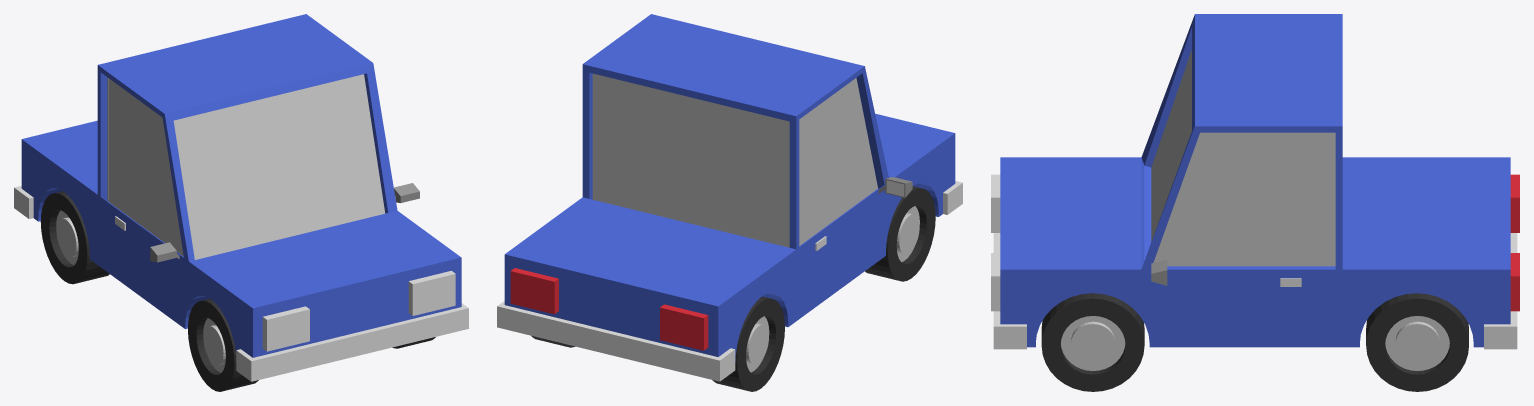
The picture shows the model from 3 angles, left to right: view 1: azimuth 30°, elevation 25°; view 2: azimuth 150°, elevation 25°; view 3: azimuth 270°, elevation 25°; orthographic projection. The views are drawn at different scales.
Visible parts, largest first — view 1: car body, wheel, Cube.002, Cube.003, Cube; view 2: car body, wheel, Cube.002, Cube.003, Cube; view 3: car body, wheel, Cube.003, Cube.002.
Boxes of the visible parts, x1=… form: car body: x1=21, y1=14, x2=461, y2=357; wheel: x1=40, y1=191, x2=435, y2=391; Cube.002: x1=14, y1=185, x2=468, y2=381; Cube.003: x1=262, y1=271, x2=455, y2=351; Cube: x1=150, y1=183, x2=419, y2=262; car body: x1=504, y1=14, x2=955, y2=361; wheel: x1=531, y1=186, x2=935, y2=391; Cube.002: x1=497, y1=181, x2=962, y2=381; Cube.003: x1=510, y1=268, x2=708, y2=350; Cube: x1=878, y1=177, x2=912, y2=197; car body: x1=1000, y1=14, x2=1510, y2=347; wheel: x1=1041, y1=293, x2=1468, y2=391; Cube.003: x1=991, y1=174, x2=1519, y2=311; Cube.002: x1=993, y1=233, x2=1517, y2=349.
Size of the model in its own units: 482 by 423 by 762.
